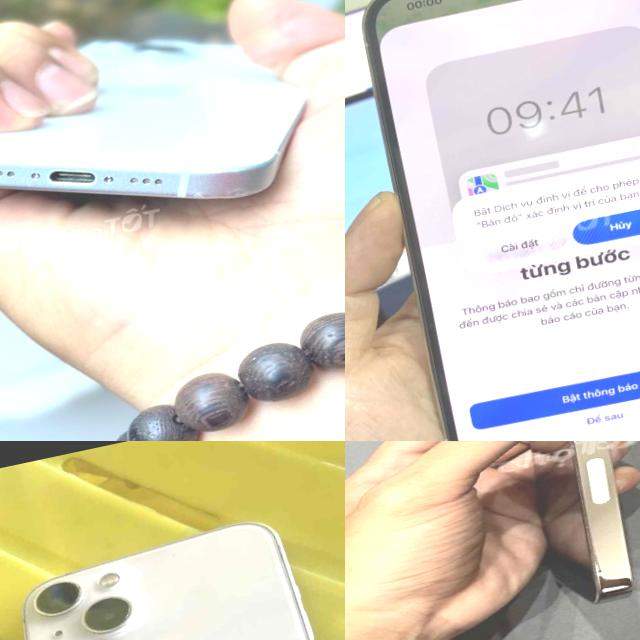scratch: (176, 162, 273, 212)
